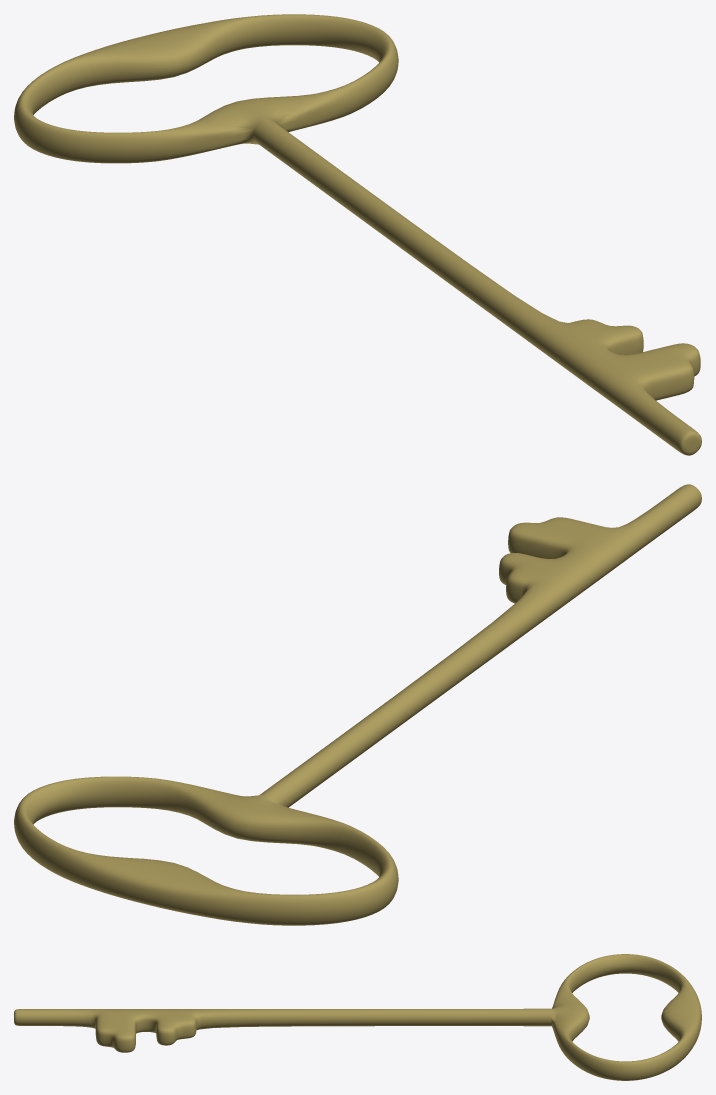
The model's file is key01.fbx.
The picture shows the model from 3 angles, top to bottom: view 1: azimuth 30°, elevation 25°; view 2: azimuth 150°, elevation 25°; view 3: azimuth 270°, elevation 25°; orthographic projection. The views are drawn at different scales.
Visible parts, largest first — view 1: pCylinder3; view 2: pCylinder3; view 3: pCylinder3.
Part boxes in pixels (bbox=[...]): pCylinder3: bbox=[14, 14, 701, 455]; pCylinder3: bbox=[14, 484, 701, 925]; pCylinder3: bbox=[14, 954, 701, 1080].
Bounding box in the file's own units: 3.94 × 0.3101 × 10.22.
